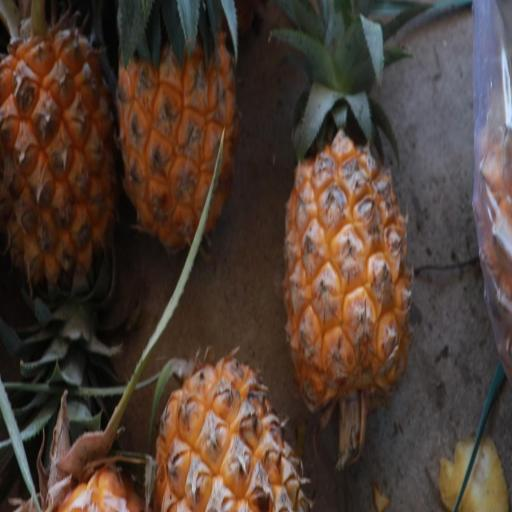Pineapple - v8 v1: (277, 110, 415, 414), (0, 0, 122, 276), (111, 4, 239, 264), (141, 335, 312, 512)
